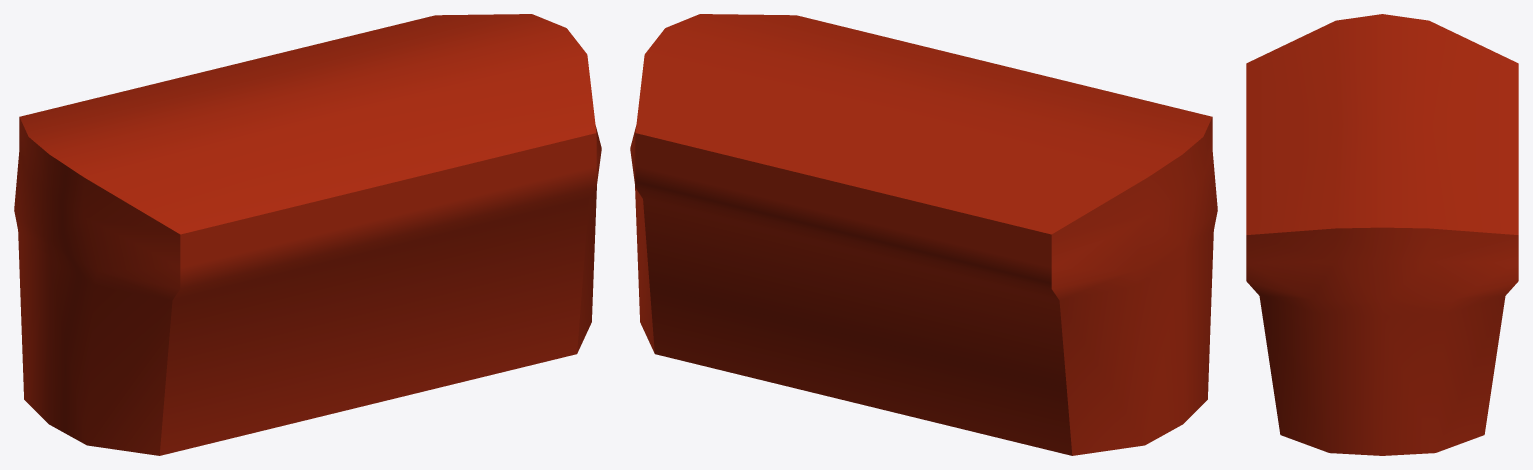
Rendered from Produce_Bread.fbx.
3 renders of one model, left to right at view 1: azimuth 30°, elevation 25°; view 2: azimuth 150°, elevation 25°; view 3: azimuth 270°, elevation 25°, orthographic. The views are drawn at different scales.
Visible parts, largest first — view 1: Box006; view 2: Box006; view 3: Box006.
Part boxes in pixels (x1,y1,x2,y2): Box006: (14, 14, 601, 455); Box006: (630, 14, 1217, 455); Box006: (1246, 14, 1518, 455).
Size of the model in its own units: 14.44 by 7.17 by 7.76.
